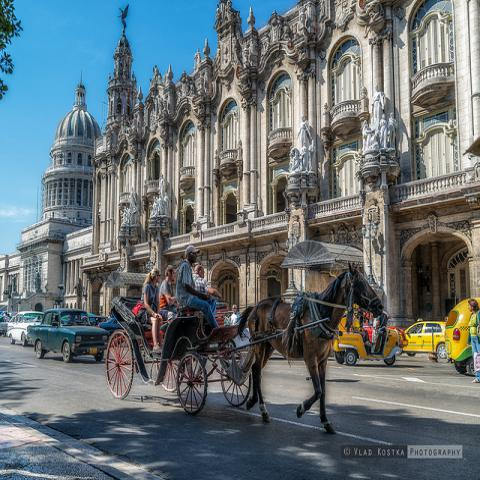car: (331, 305, 407, 368), (28, 310, 110, 363), (446, 298, 480, 375), (402, 318, 447, 359), (8, 311, 44, 346)
